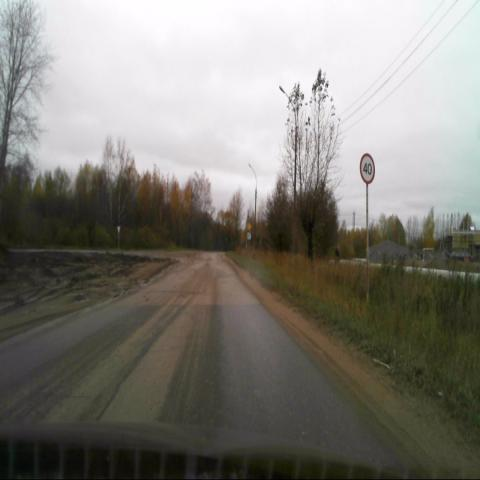3_24: (360, 152, 376, 186)
